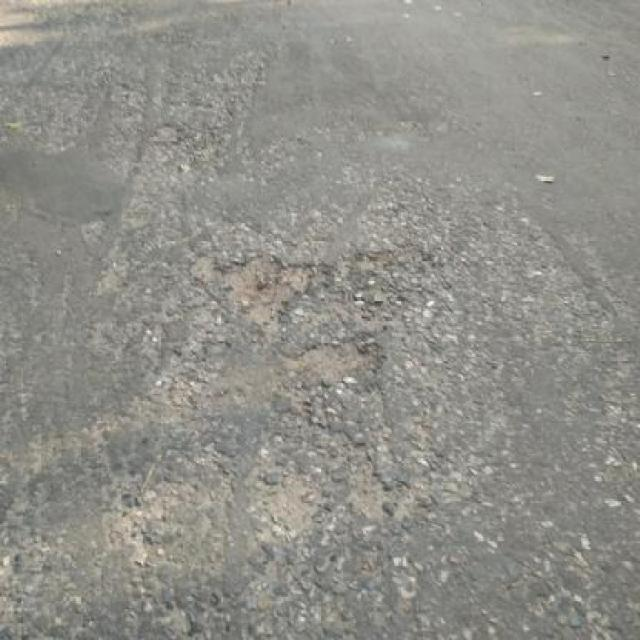Pothole: (220, 252, 312, 332), (292, 336, 380, 382)
